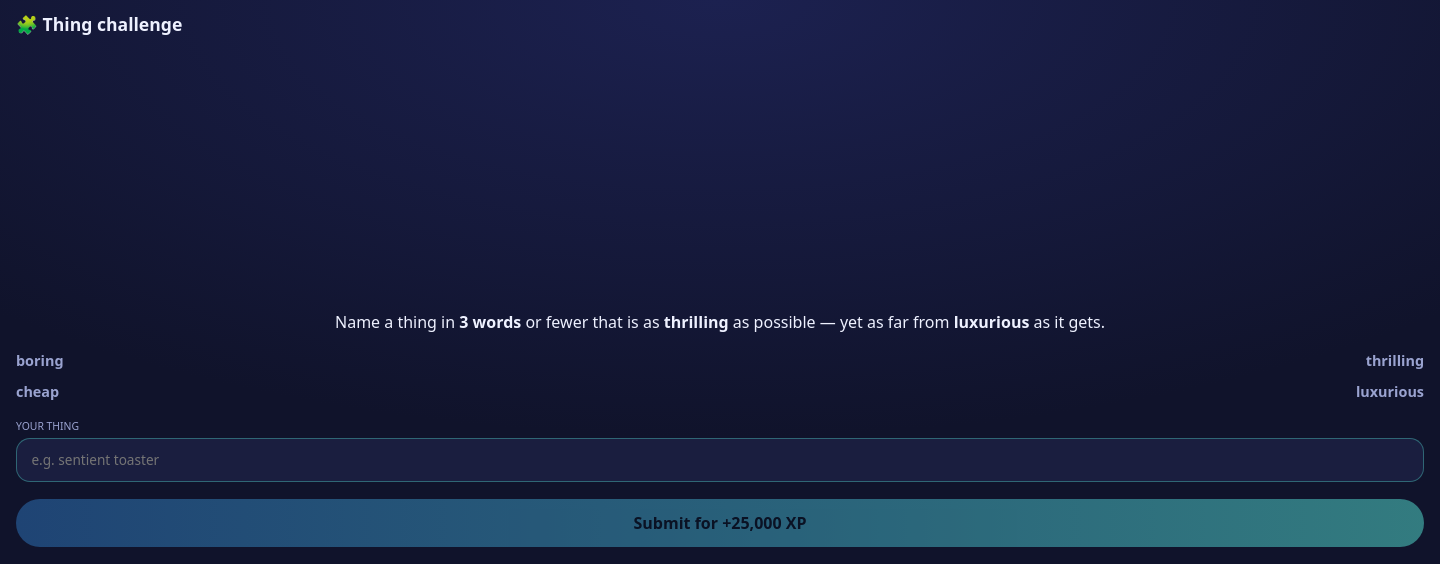
Scenario: ChallengeScreen › submits a thing, shows the reward, and reports the new profile
The image size is (1440, 564).
Step 1. Type "sentient toaster" into the field labelled "Your thing" → (720, 460), box [16, 438, 1424, 482]
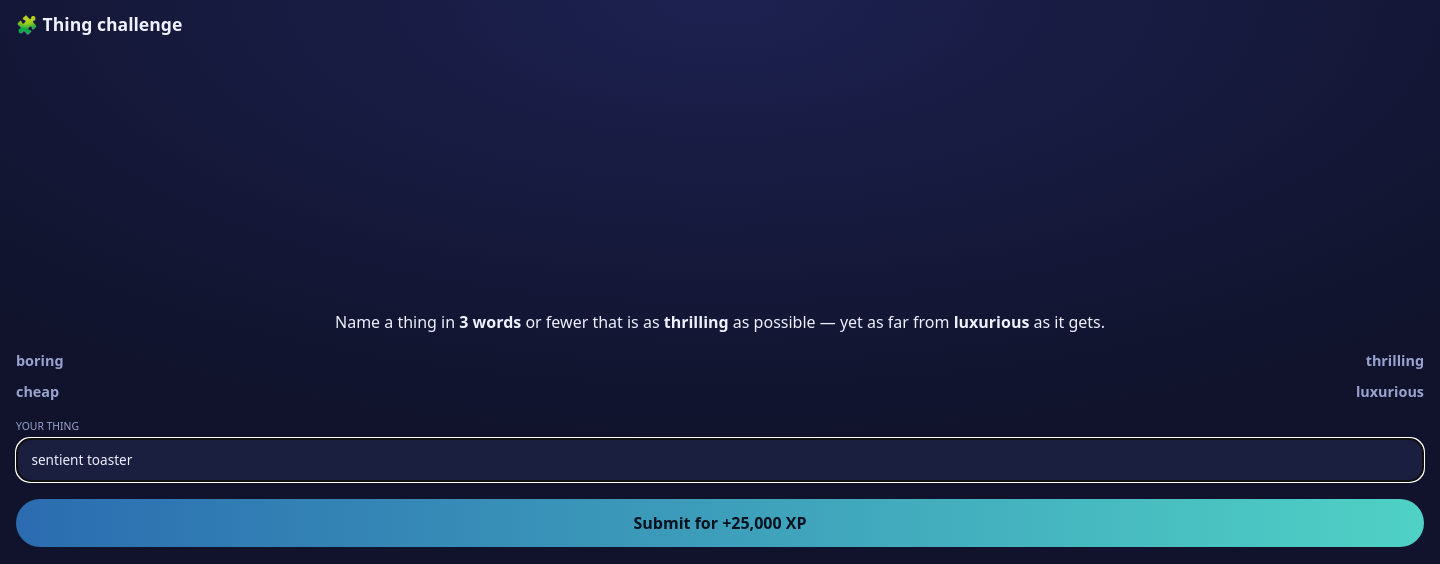
Step 2. Click the button "Submit for +25,000 XP" → (720, 523), box [16, 499, 1424, 547]
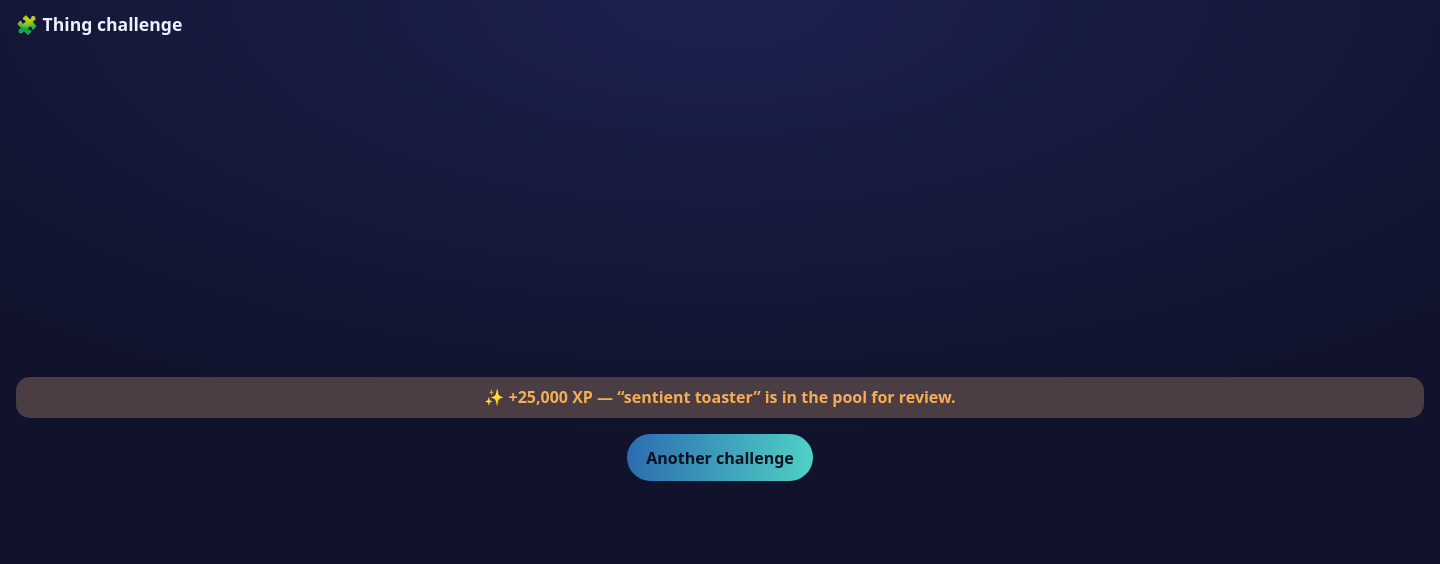
Expected: the text "✨ +25,000 XP — “sentient toaster” is in the pool for review." is shown, [16, 377, 1424, 418]
Expected: the button "Another challenge" is shown, [627, 434, 813, 481]
